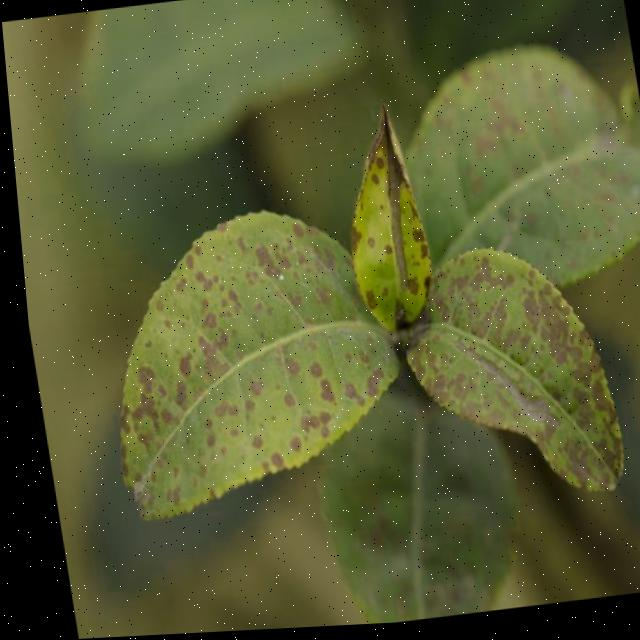Tea red scab: (107, 231, 385, 504), (412, 250, 611, 498), (426, 47, 638, 268), (339, 140, 437, 318)
